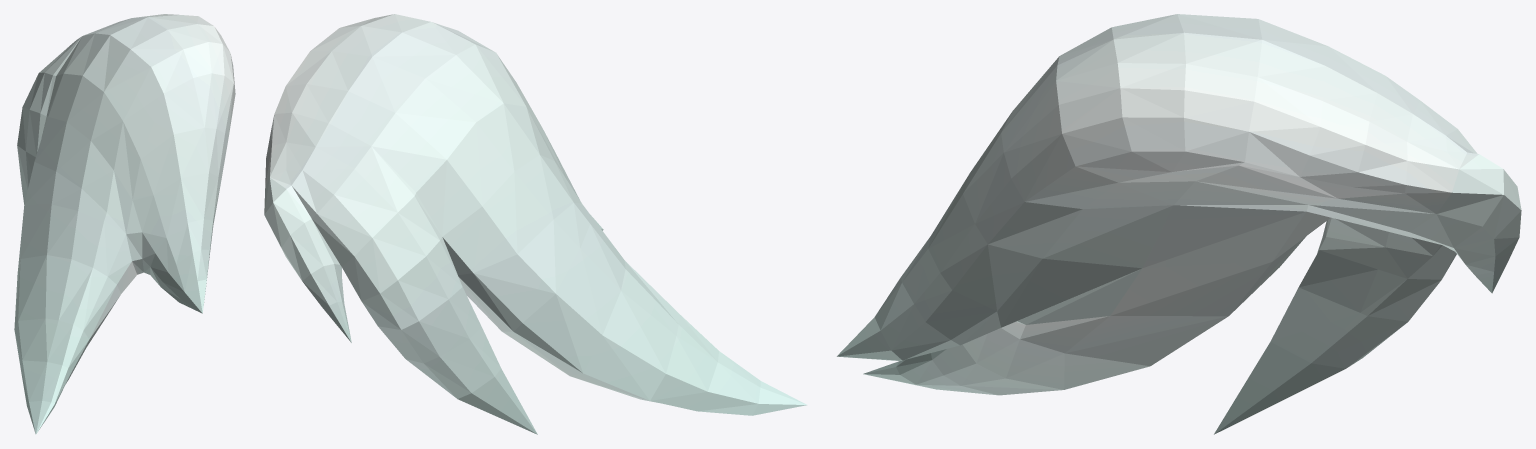
File: CharSkyKid_Hair_TopOneSideL.glb
3 views of the same model, side by side, from view 1: azimuth 30°, elevation 25°; view 2: azimuth 150°, elevation 25°; view 3: azimuth 270°, elevation 25° (orthographic). The views are drawn at different scales.
Parts seen in each view (by area): view 1: CharSkyKid_Hair_TopOneSideL; view 2: CharSkyKid_Hair_TopOneSideL; view 3: CharSkyKid_Hair_TopOneSideL.
Part boxes in pixels (<box>): CharSkyKid_Hair_TopOneSideL: <box>14,14,235,434</box>; CharSkyKid_Hair_TopOneSideL: <box>264,14,806,434</box>; CharSkyKid_Hair_TopOneSideL: <box>837,14,1521,434</box>.
Size of the model in its own units: 3.61 by 3.59 by 4.14.
1 material, 1 textured.
